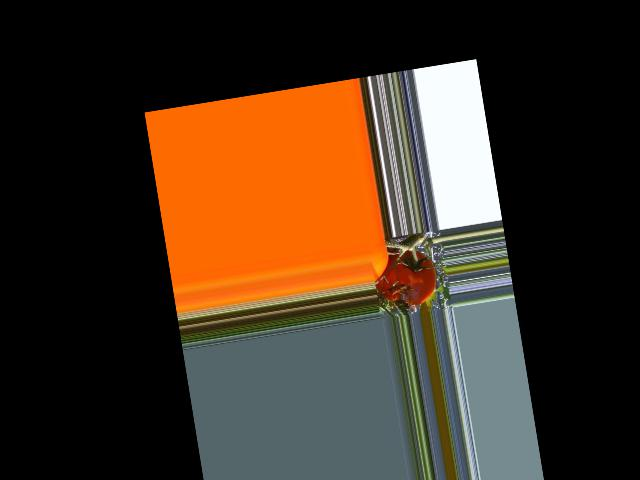tomato: (371, 246, 440, 312)
